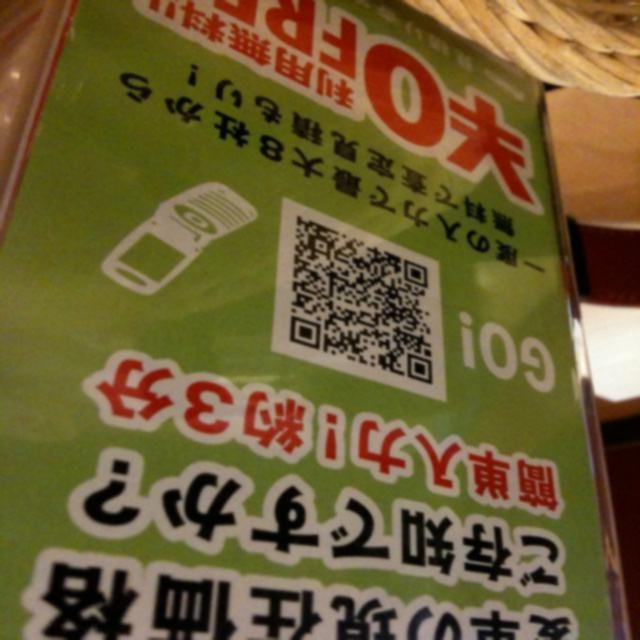qr-code: (290, 216, 432, 385)
